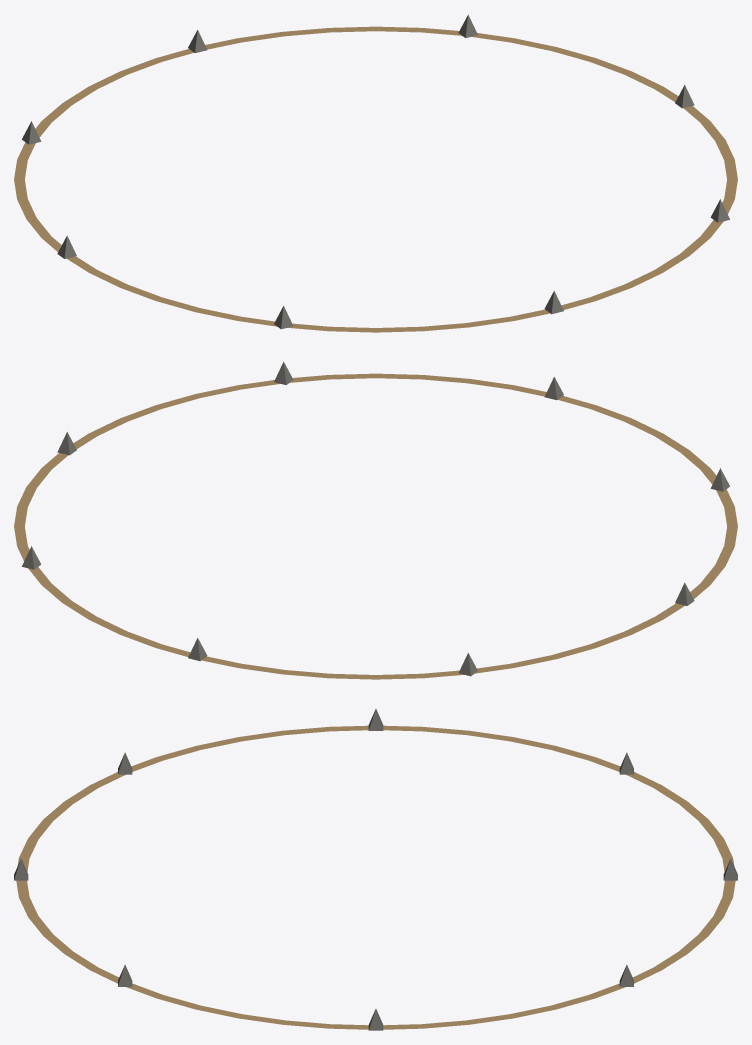
The model's file is earth_totem_ring.glb.
3 renders of one model, top to bottom at view 1: azimuth 30°, elevation 25°; view 2: azimuth 150°, elevation 25°; view 3: azimuth 270°, elevation 25°, orthographic.
Parts seen in each view (by area): view 1: earth_totem_ring; view 2: earth_totem_ring; view 3: earth_totem_ring.
Boxes of the visible parts, left/top/right/bottom form: earth_totem_ring: left=14, top=14, right=737, bottom=332; earth_totem_ring: left=14, top=361, right=737, bottom=679; earth_totem_ring: left=14, top=709, right=737, bottom=1030.
Bounding box in the file's own units: 2.01 × 0.06 × 2.01.
Materials: 1 (1 with a texture image).
